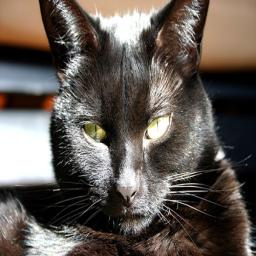catnose: (115, 184, 138, 209)
